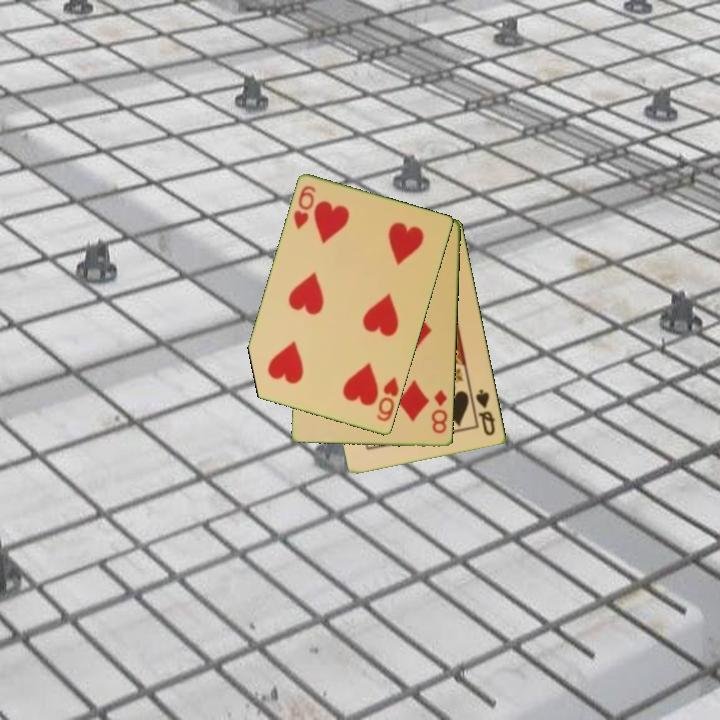6h: (373, 374, 402, 425), (290, 182, 319, 233)
8d: (428, 386, 451, 437)
Qs: (472, 386, 498, 439)
